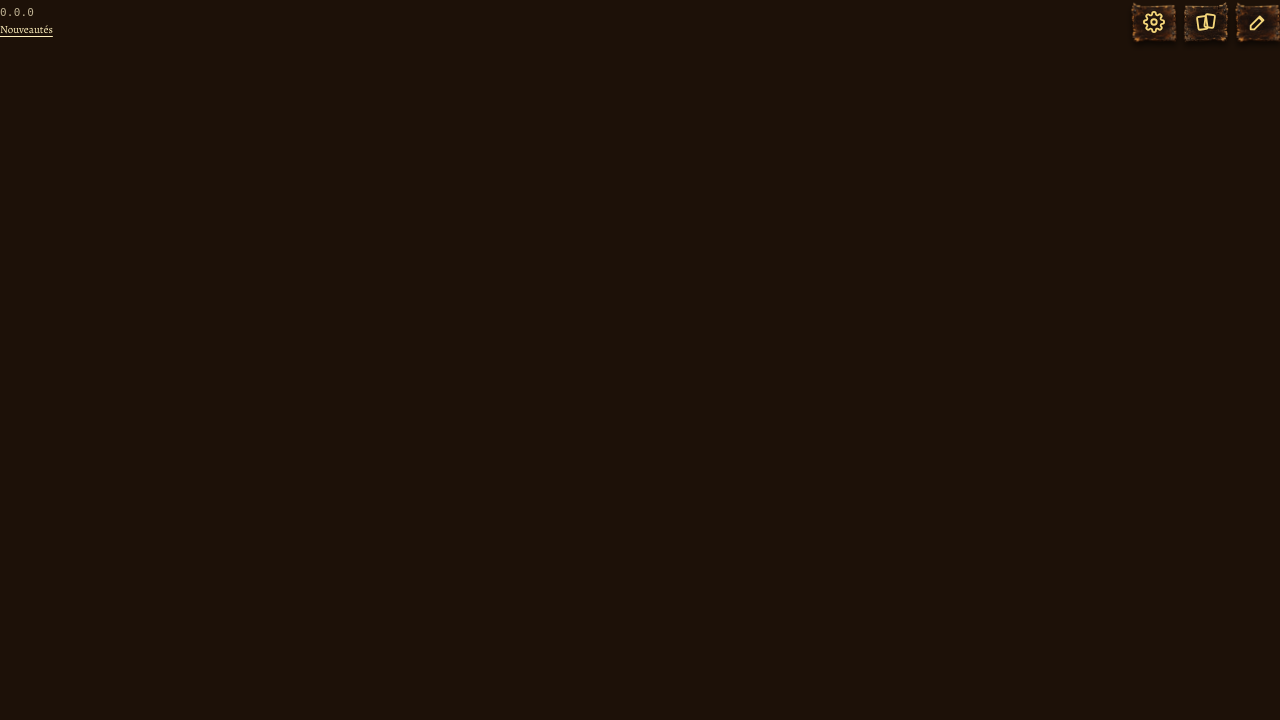
Test case: le codex et le signalement › le signalement s’ouvre en un geste, sans passer par les règles
The image size is (1280, 720).
Click the button with test id "report-open". click: (1258, 22)
box: x1=1236 y1=0 x2=1279 y2=44
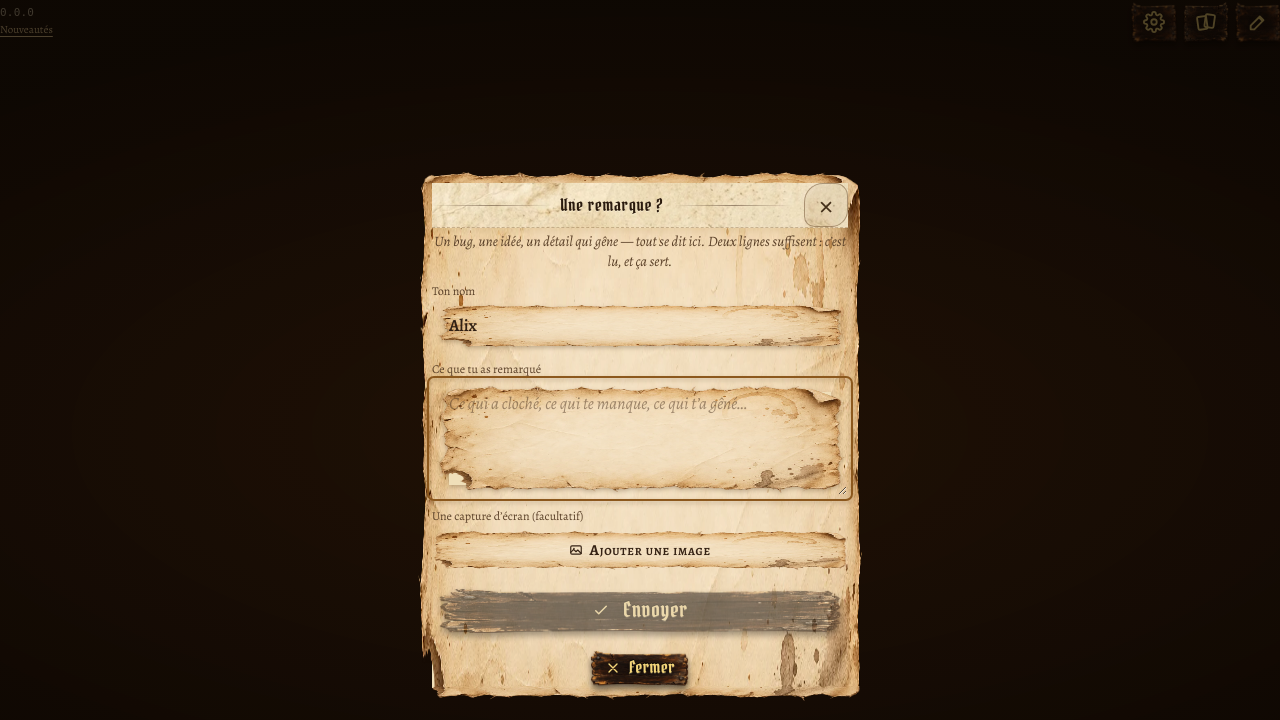
Expected: the dialog with test id "report-sheet" is shown, x1=416 y1=167 x2=864 y2=704
Expected: the field with test id "report-nom" holds "Alix", x1=432 y1=303 x2=848 y2=349
